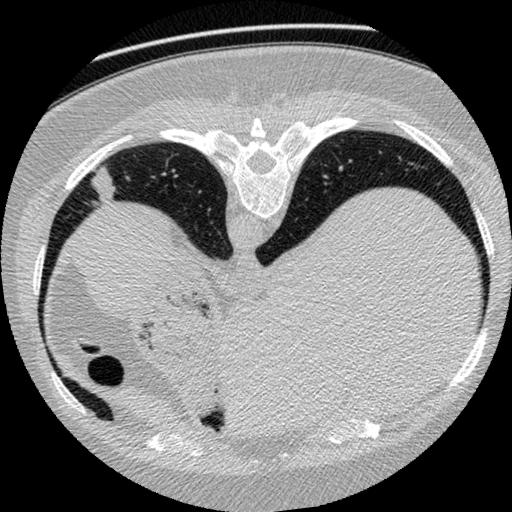nodule: (84, 167, 122, 205)
